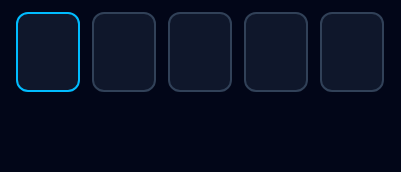
it: CodeInput › Backspace on an empty box goes back
Type "AB" into the field named "Character 1".
click(48, 52); type("AB")  # box [16, 12, 80, 92]
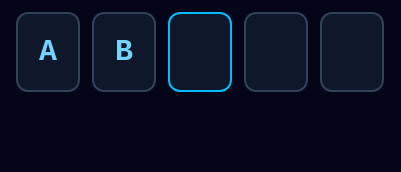
Press Backspace
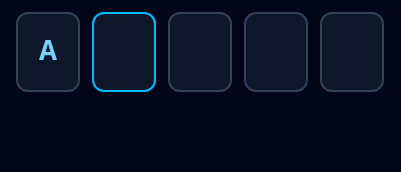
Result: the field named "Character 2" is empty at [92, 12, 156, 92]
